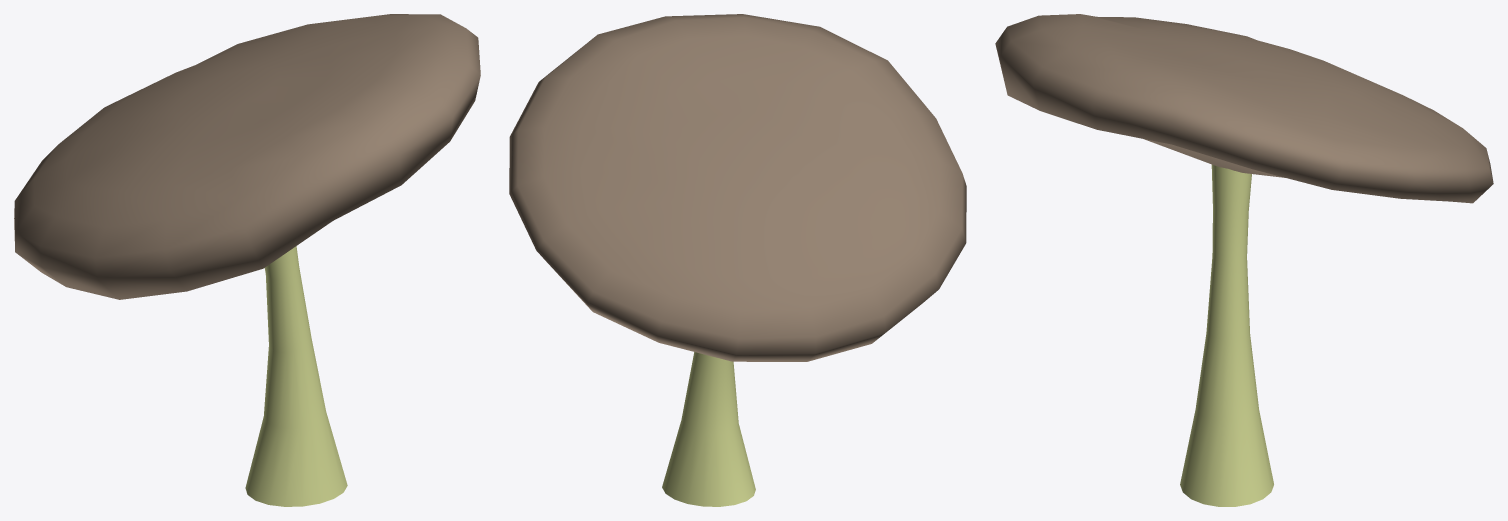
The model's file is Champi Long Low.FBX.
3 renders of one model, left to right at view 1: azimuth 30°, elevation 25°; view 2: azimuth 150°, elevation 25°; view 3: azimuth 270°, elevation 25°, orthographic. The views are drawn at different scales.
Parts seen in each view (by area): view 1: Cylinder051; view 2: Cylinder051; view 3: Cylinder051.
Part boxes in pixels (<box>): Cylinder051: <box>14,14,480,506</box>; Cylinder051: <box>509,14,966,506</box>; Cylinder051: <box>995,14,1493,506</box>.
Size of the model in its own units: 417 by 424 by 418.
